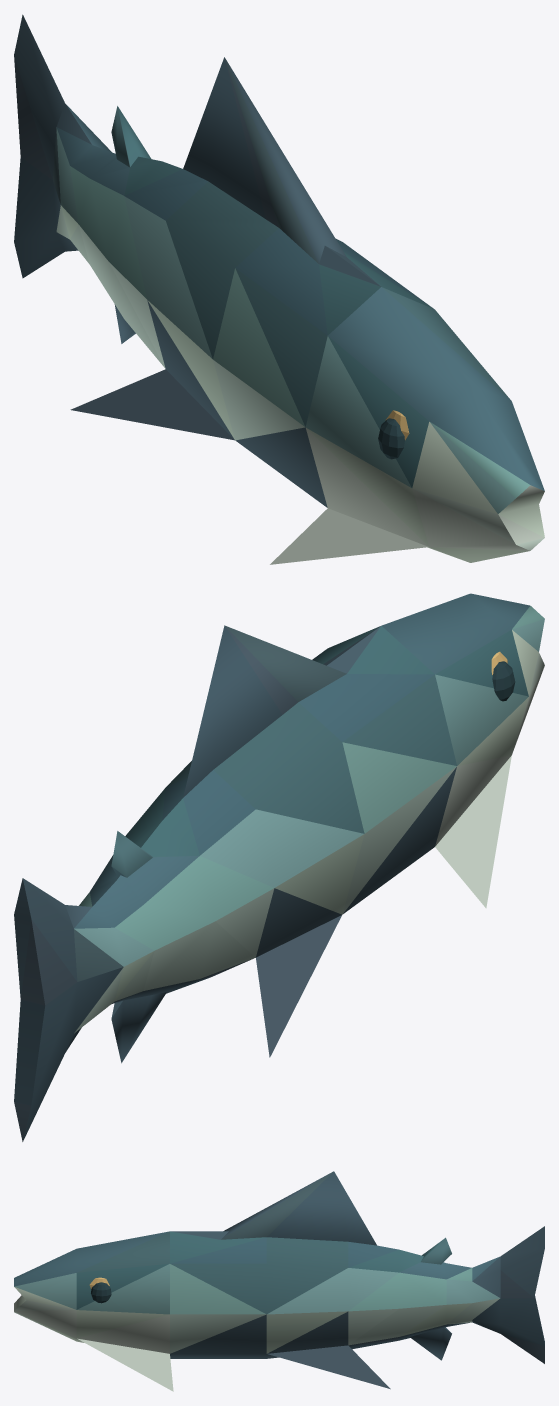
Rendered from SilverCatch.glb.
The picture shows the model from 3 angles, top to bottom: view 1: azimuth 30°, elevation 25°; view 2: azimuth 150°, elevation 25°; view 3: azimuth 270°, elevation 25°; orthographic projection. The views are drawn at different scales.
Parts seen in each view (by area): view 1: SilverCatch; view 2: SilverCatch; view 3: SilverCatch.
Boxes of the visible parts, bbox=[...] form: SilverCatch: bbox=[14, 14, 544, 564]; SilverCatch: bbox=[14, 593, 544, 1141]; SilverCatch: bbox=[14, 1171, 544, 1391].
Bounding box in the file's own units: 0.175 × 0.285 × 0.71.
